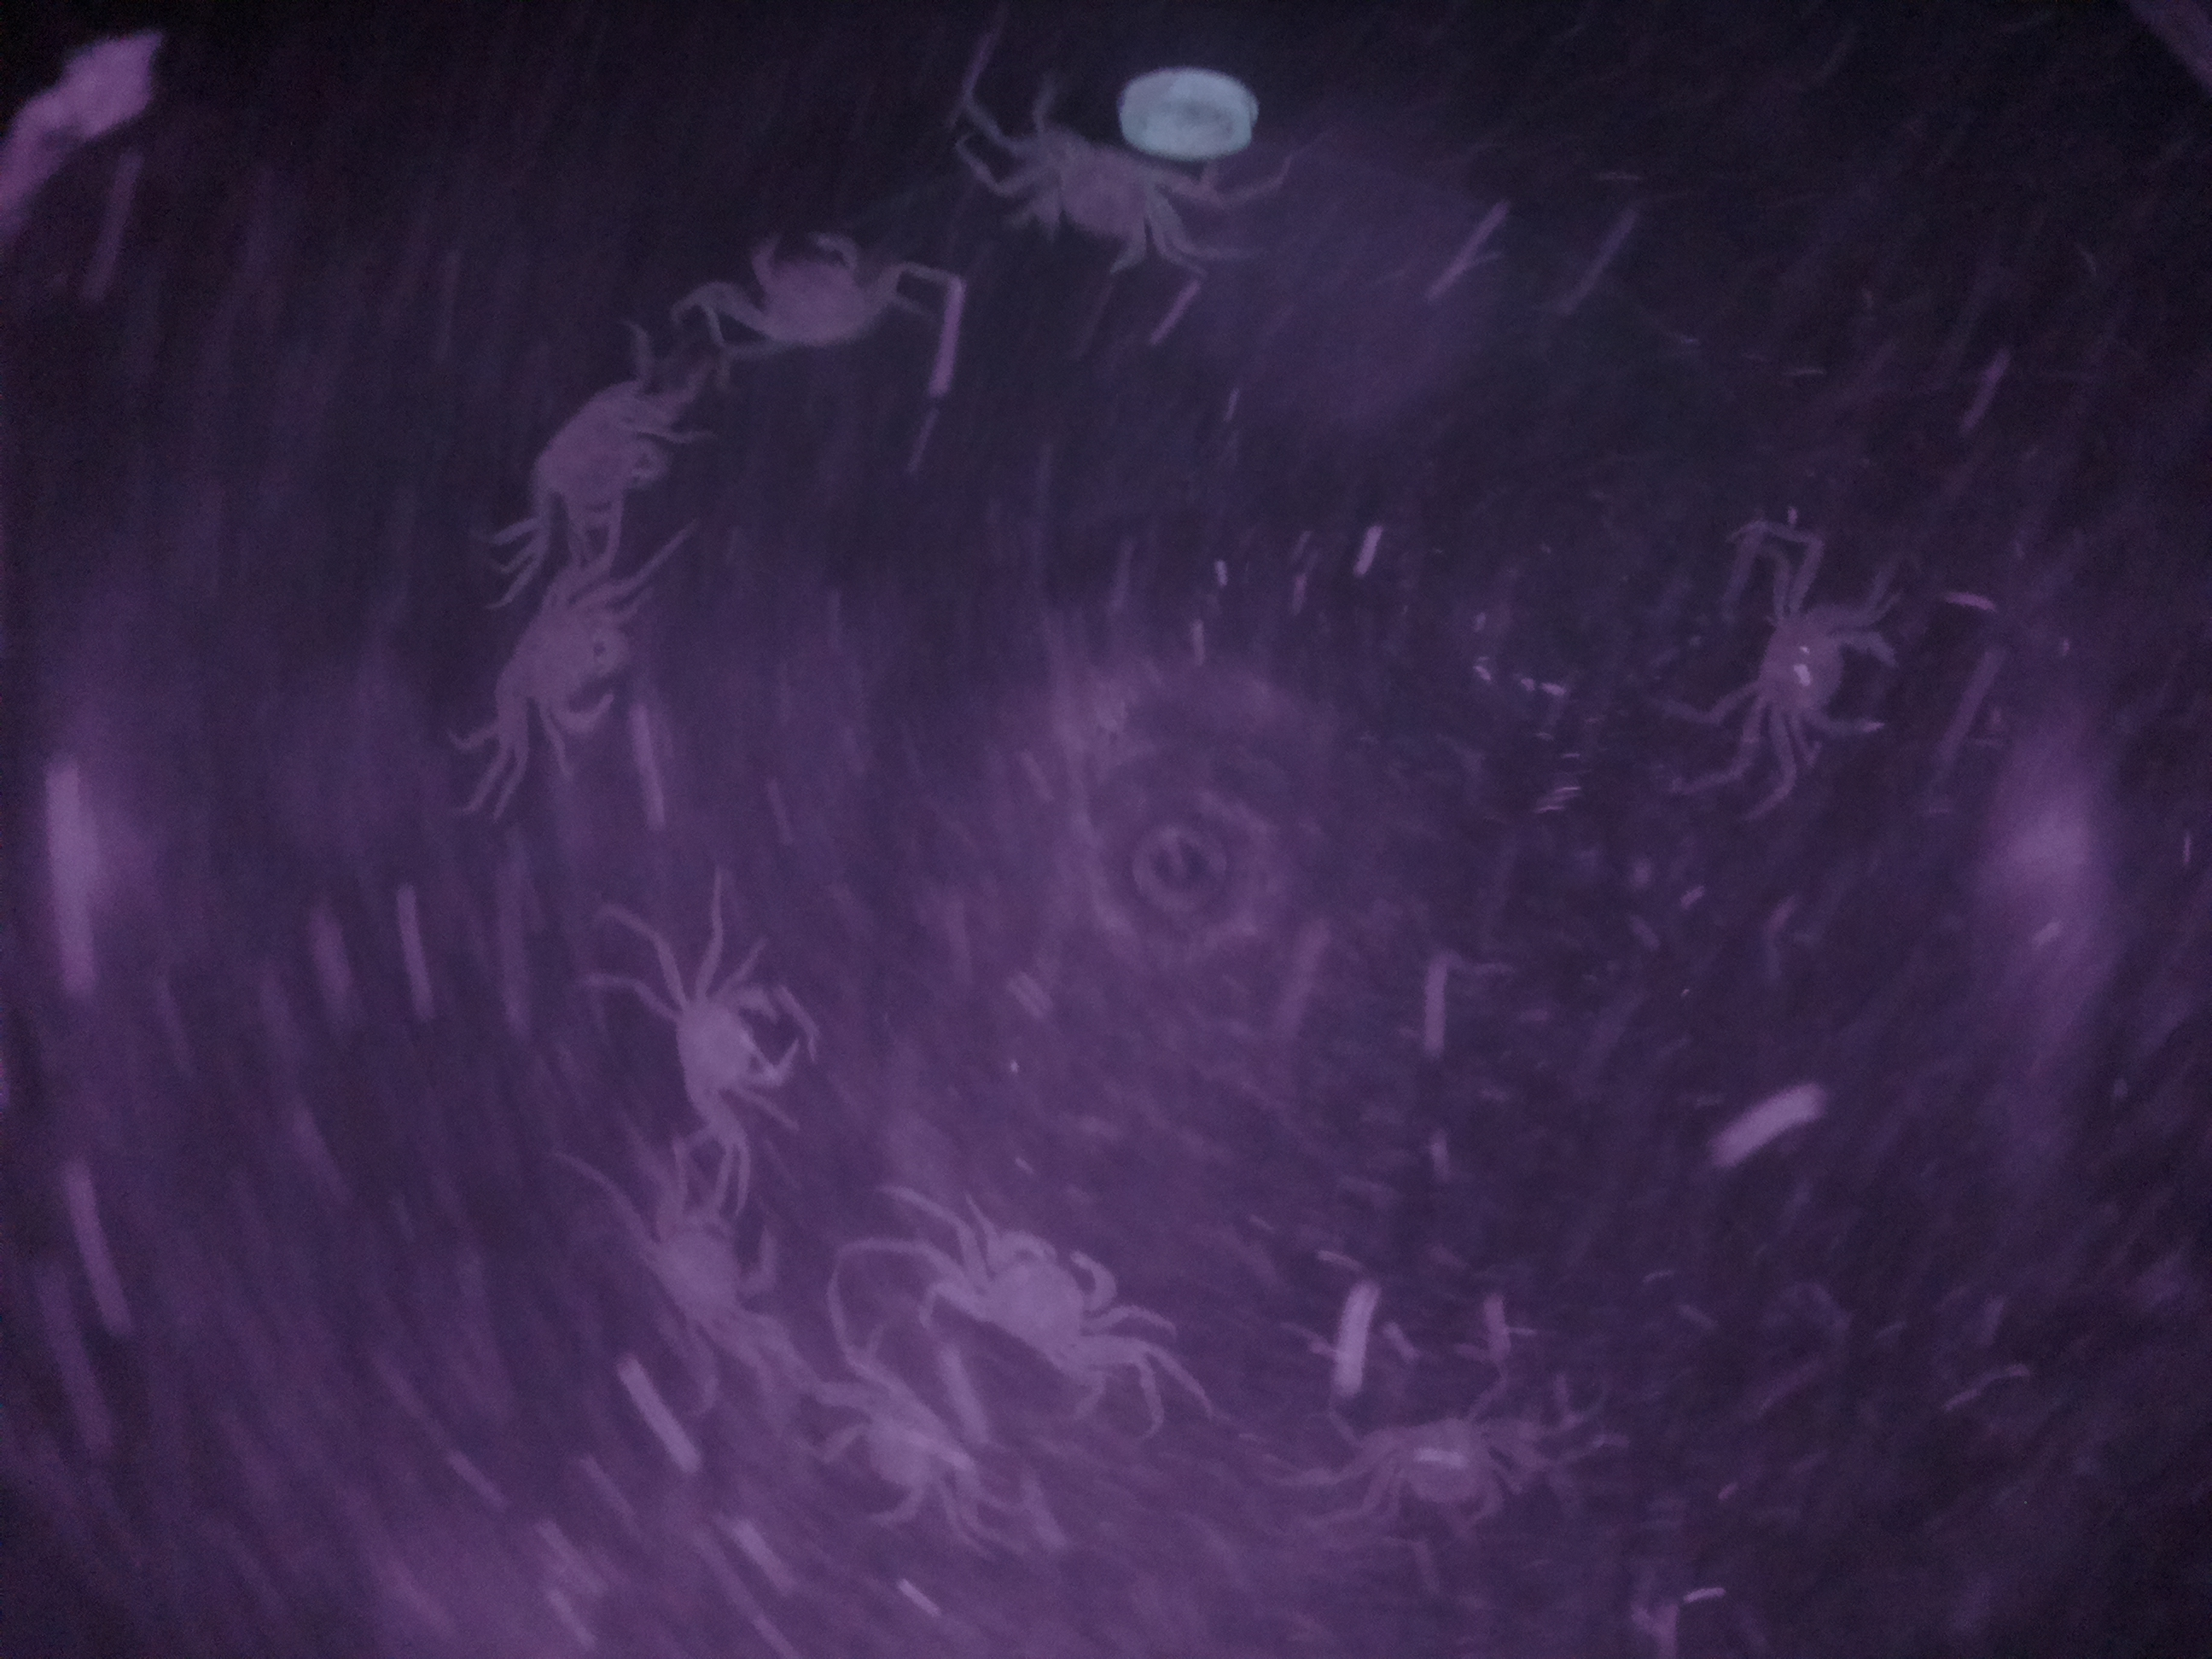Crab: (942, 1190, 1160, 1413), (449, 559, 646, 767), (1693, 594, 1911, 769), (634, 950, 827, 1145)
